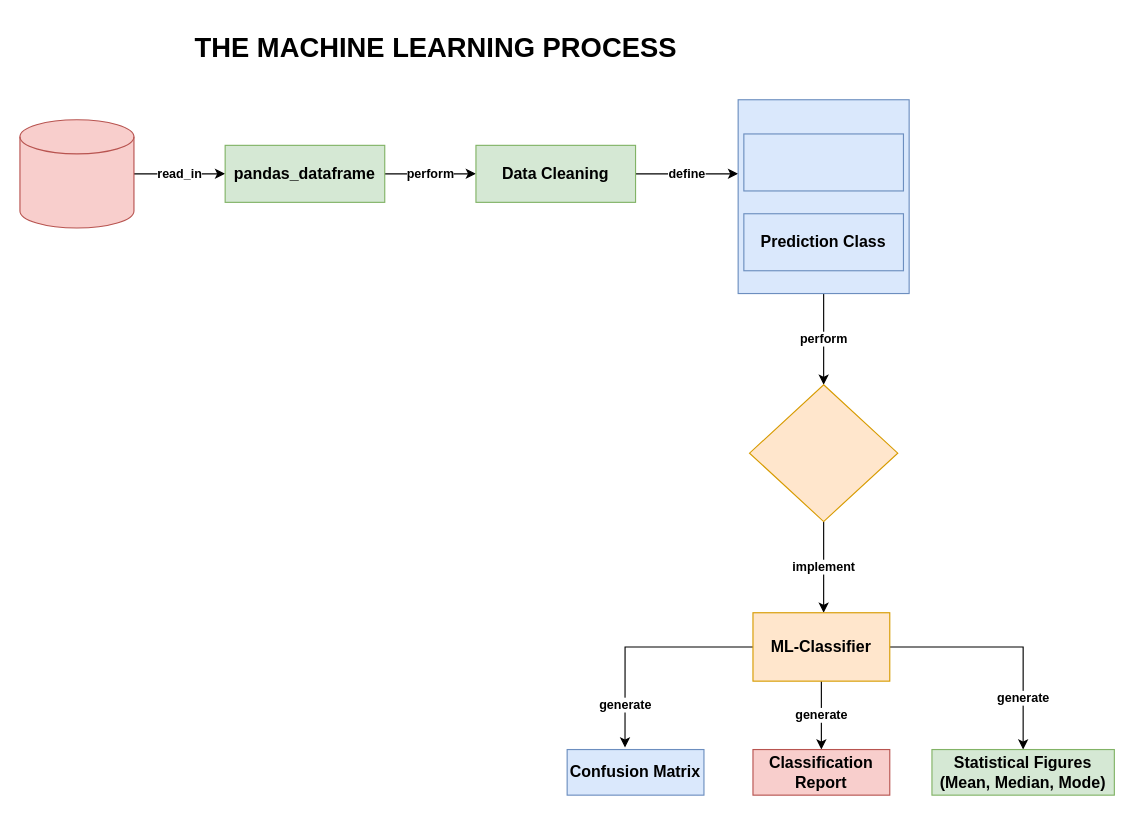
This 1134x815 diagram has some shape labels left out. The shapes that lost their labels are listed below. From the top down, each one's box as (x1, y1, x2, y2) in pixels, then its label:
(19, 119, 134, 228): Fraudulent Transaction Dataset
(743, 133, 903, 191): Feature Set
(748, 384, 898, 522): K-fold Cross Validation
